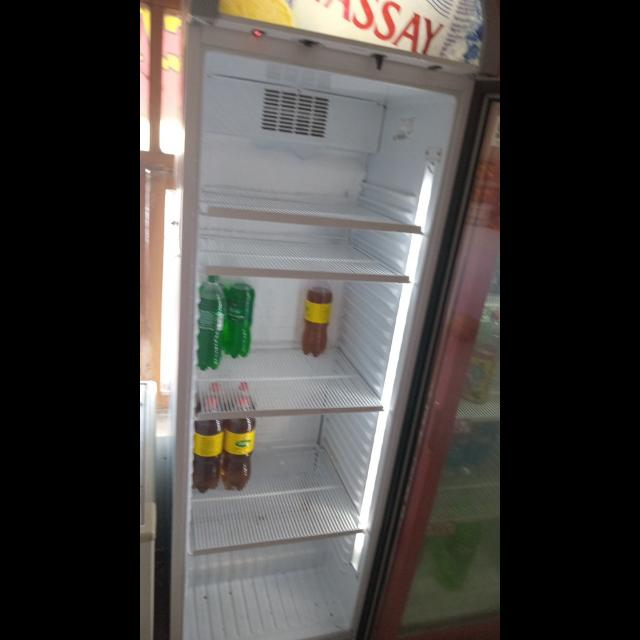Cooling-Display: (170, 1, 488, 640)
